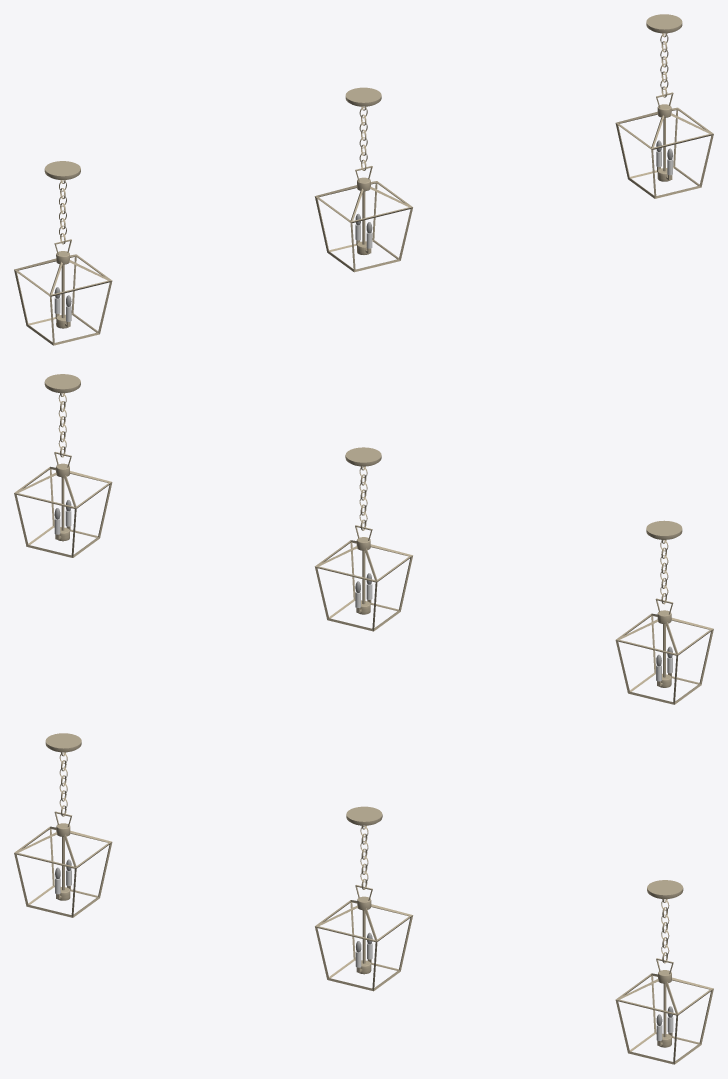
File: Light_DiannaSatinBrass.glb
3 views of the same model, one above another, from view 1: azimuth 30°, elevation 25°; view 2: azimuth 150°, elevation 25°; view 3: azimuth 330°, elevation 25° (orthographic).
Visible parts, largest first — view 1: Dianna Satin Brass; view 2: Dianna Satin Brass; view 3: Dianna Satin Brass.
Boxes of the visible parts, <box> form: Dianna Satin Brass: <box>14,14,713,345</box>; Dianna Satin Brass: <box>14,374,713,704</box>; Dianna Satin Brass: <box>14,733,713,1064</box>.
Size of the model in its own units: 4.02 by 0.9331 by 0.3781.
